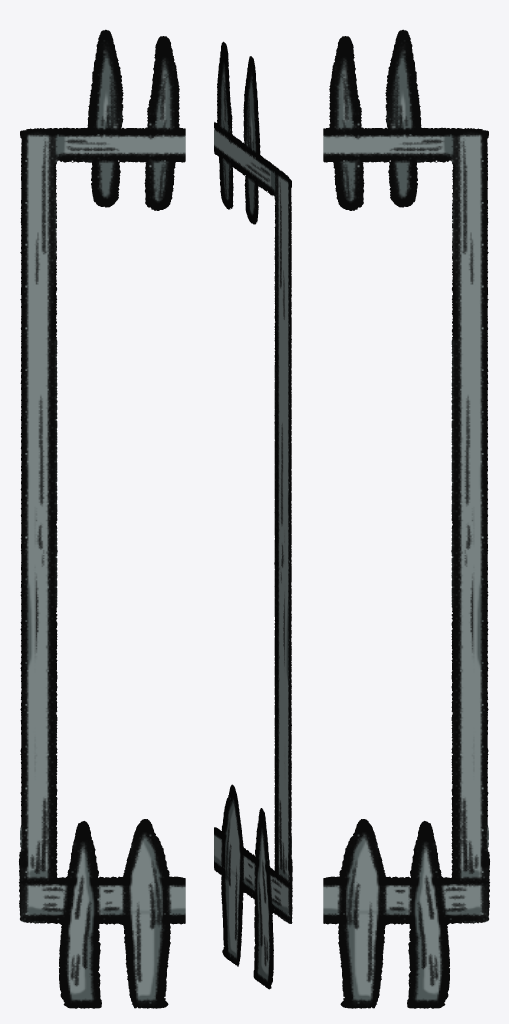
The model's file is fenceFrame.fbx.
The picture shows the model from 3 angles, left to right: view 1: azimuth 90°, elevation 25°; view 2: azimuth 210°, elevation 25°; view 3: azimuth 270°, elevation 25°; orthographic projection. The views are drawn at different scales.
Visible parts, largest first — view 1: fence_geo; view 2: fence_geo; view 3: fence_geo.
Part boxes in pixels (left/top/right/bottom): fence_geo: left=19, top=29, right=185, bottom=1008; fence_geo: left=214, top=41, right=292, bottom=989; fence_geo: left=323, top=29, right=489, bottom=1008.
Bounding box in the file's own units: 3.06e-15 × 19.05 × 2.98.
